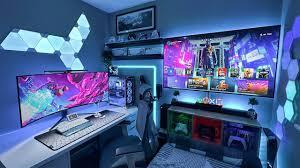keyboard: (54, 118, 90, 133)
